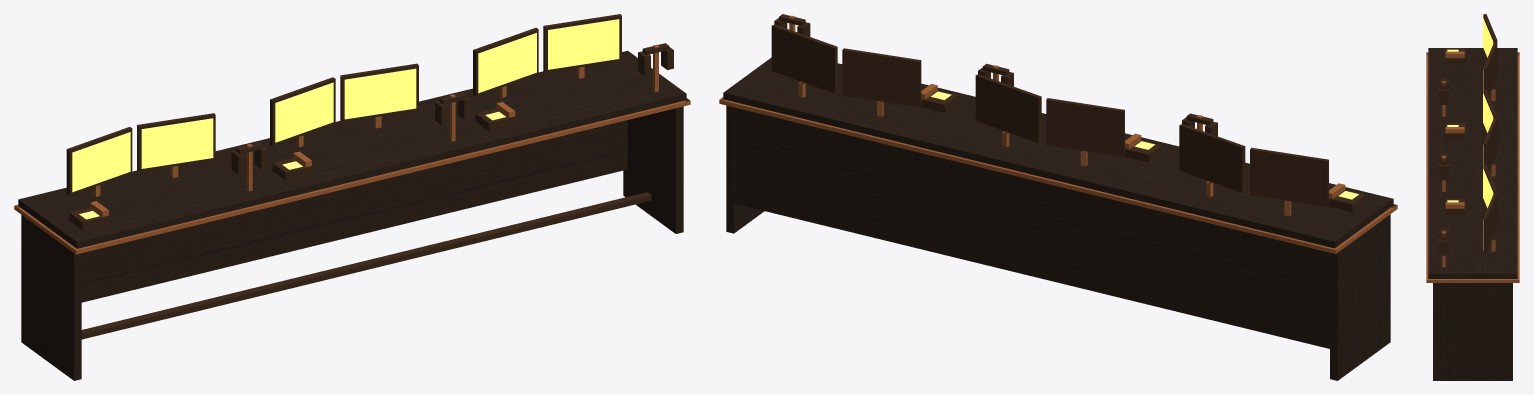
Rendered from trading_desk.glb.
The picture shows the model from 3 angles, left to right: view 1: azimuth 30°, elevation 25°; view 2: azimuth 150°, elevation 25°; view 3: azimuth 270°, elevation 25°; orthographic projection. The views are drawn at different scales.
Visible parts, largest first — view 1: trading_desk; view 2: trading_desk; view 3: trading_desk.
Part boxes in pixels (x1,y1,x2,y2): trading_desk: (14, 14, 690, 380); trading_desk: (719, 14, 1397, 380); trading_desk: (1426, 14, 1519, 380).
Size of the model in its own units: 4.84 by 1.5 by 0.84.
4 materials, 1 textured.
